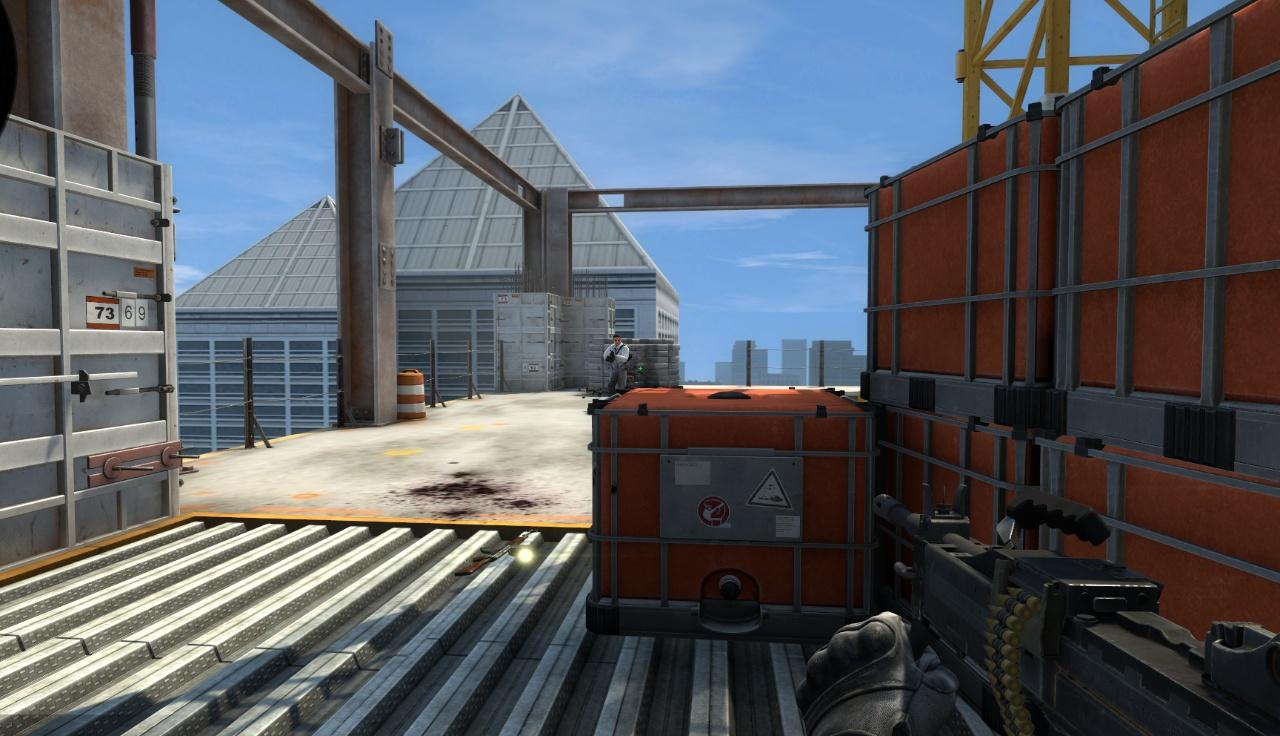rifle: (849, 469, 1280, 736)
tt: (608, 334, 627, 392)
tthead: (613, 335, 621, 346)
